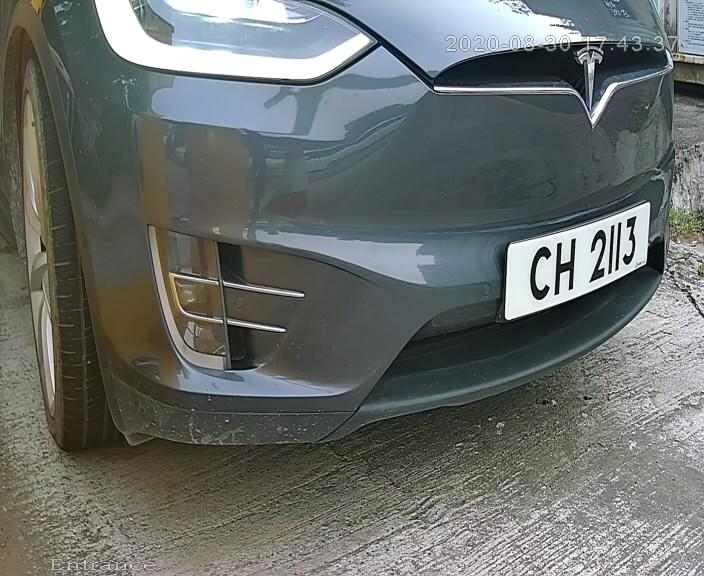License Plate: (491, 201, 654, 322)
